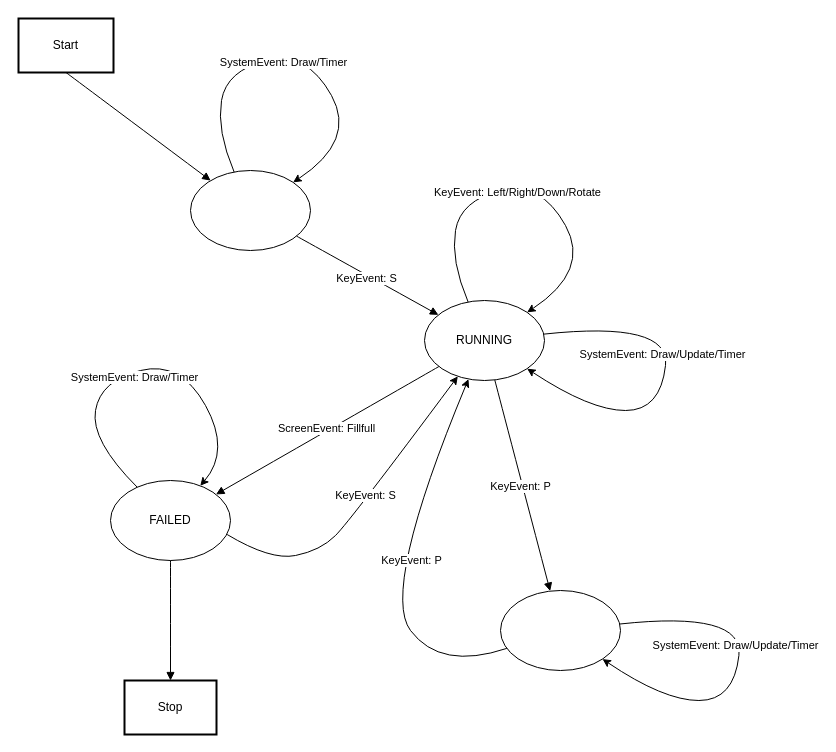
The diagram is 836 pixels wide and 752 high, and some of its shapes have lost their labels. The shapes that lost their labels are listed below. From the top down, each one's box as (x1, y1, x2, y2) in pixels, then its label:
(190, 170, 310, 250): SHOW_COVER
(500, 590, 620, 670): PAUSED
